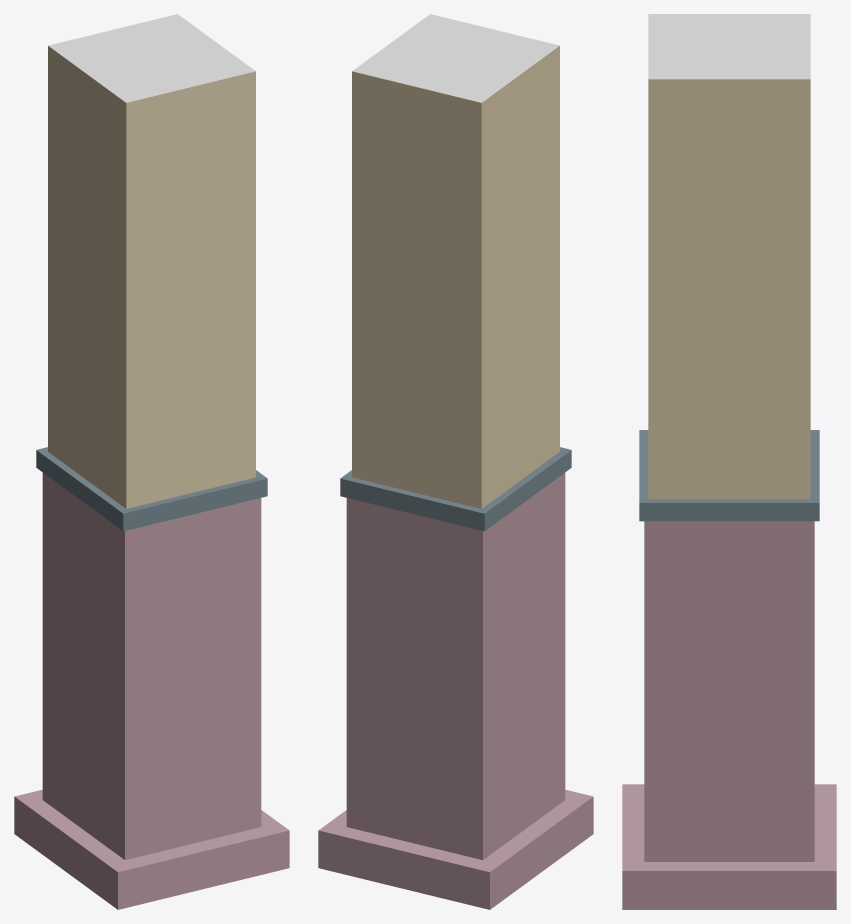
File: cube.002_lev3.glb
3 views of the same model, side by side, from view 1: azimuth 30°, elevation 25°; view 2: azimuth 150°, elevation 25°; view 3: azimuth 270°, elevation 25° (orthographic). The views are drawn at different scales.
Parts seen in each view (by area): view 1: cube.002_lev3; view 2: cube.002_lev3; view 3: cube.002_lev3.
Boxes of the visible parts, x1=… form: cube.002_lev3: x1=14, y1=14, x2=289, y2=909; cube.002_lev3: x1=318, y1=14, x2=593, y2=909; cube.002_lev3: x1=622, y1=14, x2=836, y2=909.
Size of the model in its own units: 1.45 by 6.39 by 1.51.
